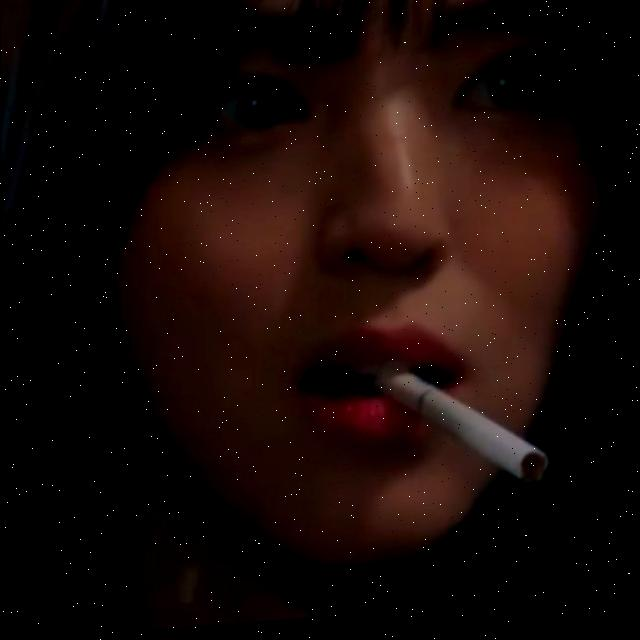cigarette: (370, 369, 549, 500)
